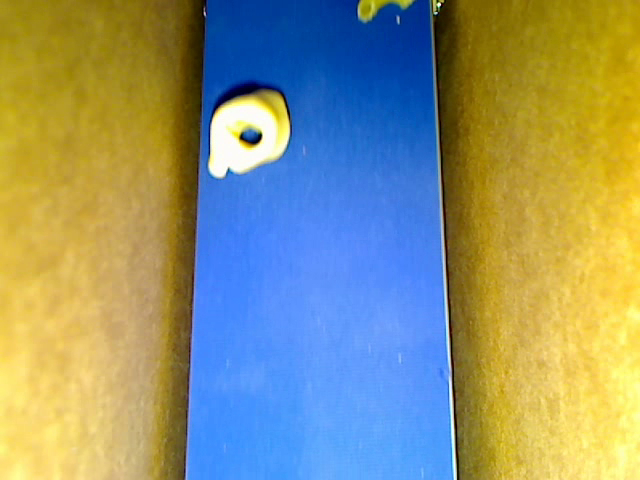elbow: (356, 1, 414, 25)
tortellini: (207, 90, 291, 180)
